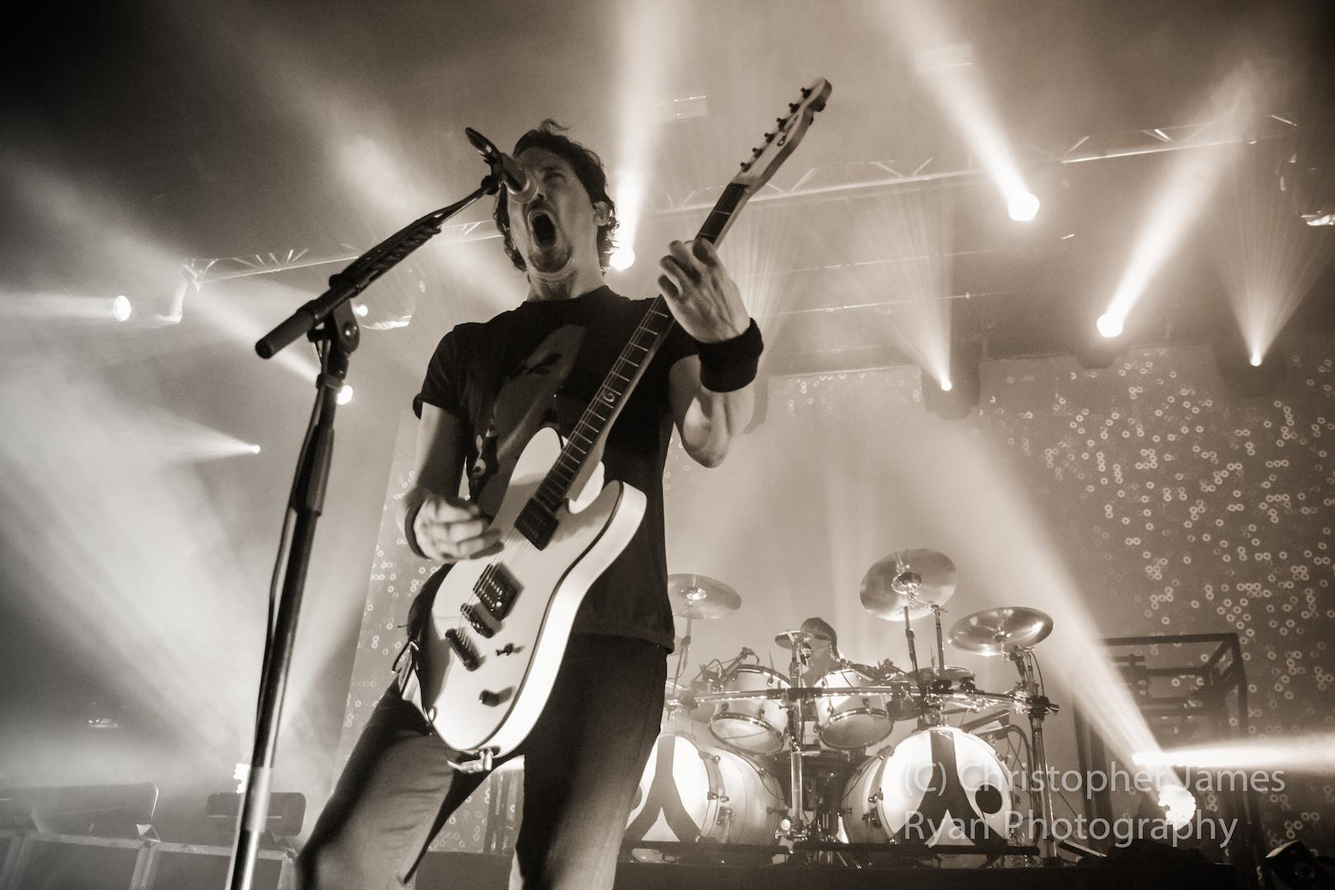acousticguitar: (399, 75, 834, 758)
